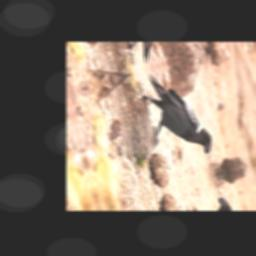Crow: (130, 60, 218, 170)
